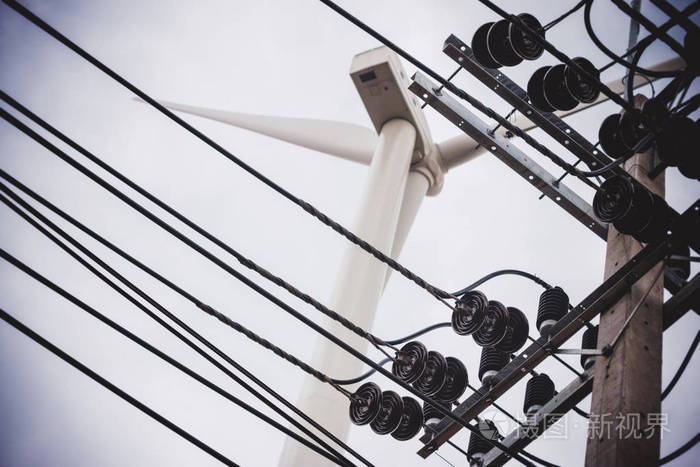insulator: (592, 175, 674, 242), (449, 291, 530, 354), (389, 343, 470, 402), (346, 383, 423, 440), (470, 11, 547, 66), (525, 60, 604, 106), (598, 108, 648, 158)
